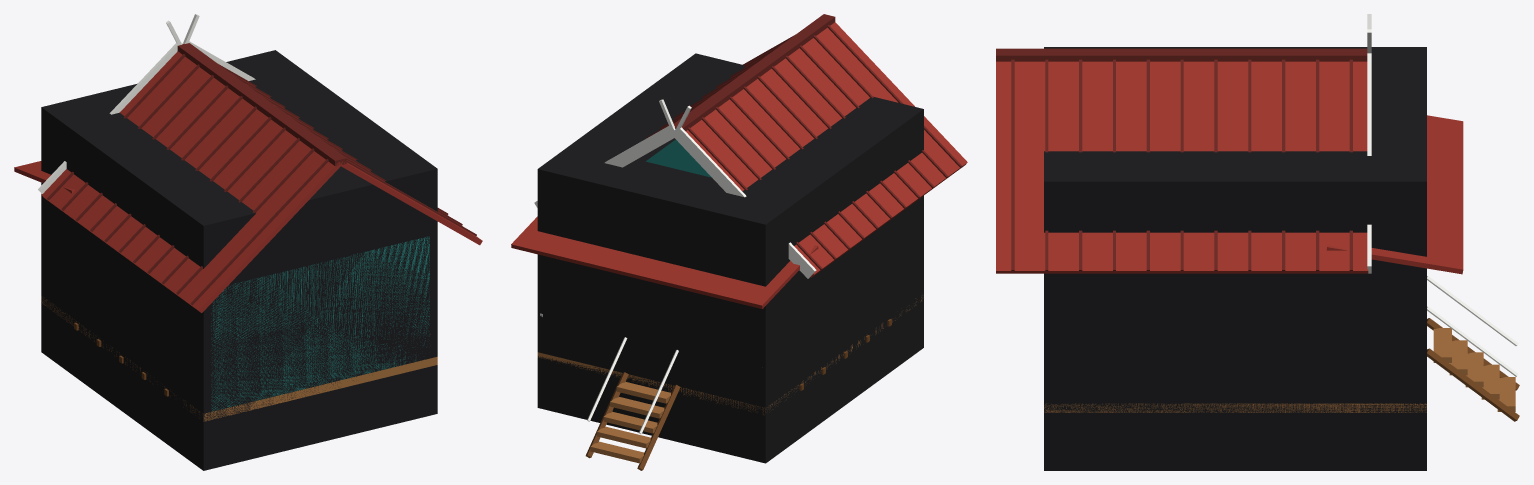
File: env_kb_house_small.fbx
The picture shows the model from 3 angles, left to right: view 1: azimuth 30°, elevation 25°; view 2: azimuth 150°, elevation 25°; view 3: azimuth 270°, elevation 25°; orthographic projection. The views are drawn at different scales.
Visible parts, largest first — view 1: COL_env_kb_house_small, env_kb_house_small_geo_LOD0; view 2: COL_env_kb_house_small, env_kb_house_small_geo_LOD0; view 3: COL_env_kb_house_small, env_kb_house_small_geo_LOD0.
Boxes of the visible parts, box(x1,y1,x2,y2) form: COL_env_kb_house_small: box(41, 50, 437, 470); env_kb_house_small_geo_LOD0: box(14, 14, 482, 421); COL_env_kb_house_small: box(537, 53, 923, 463); env_kb_house_small_geo_LOD0: box(511, 14, 967, 470); COL_env_kb_house_small: box(1044, 47, 1426, 470); env_kb_house_small_geo_LOD0: box(996, 14, 1519, 421).
Size of what is drawn, in the model's own units: 7.38 by 7.98 by 9.85.
